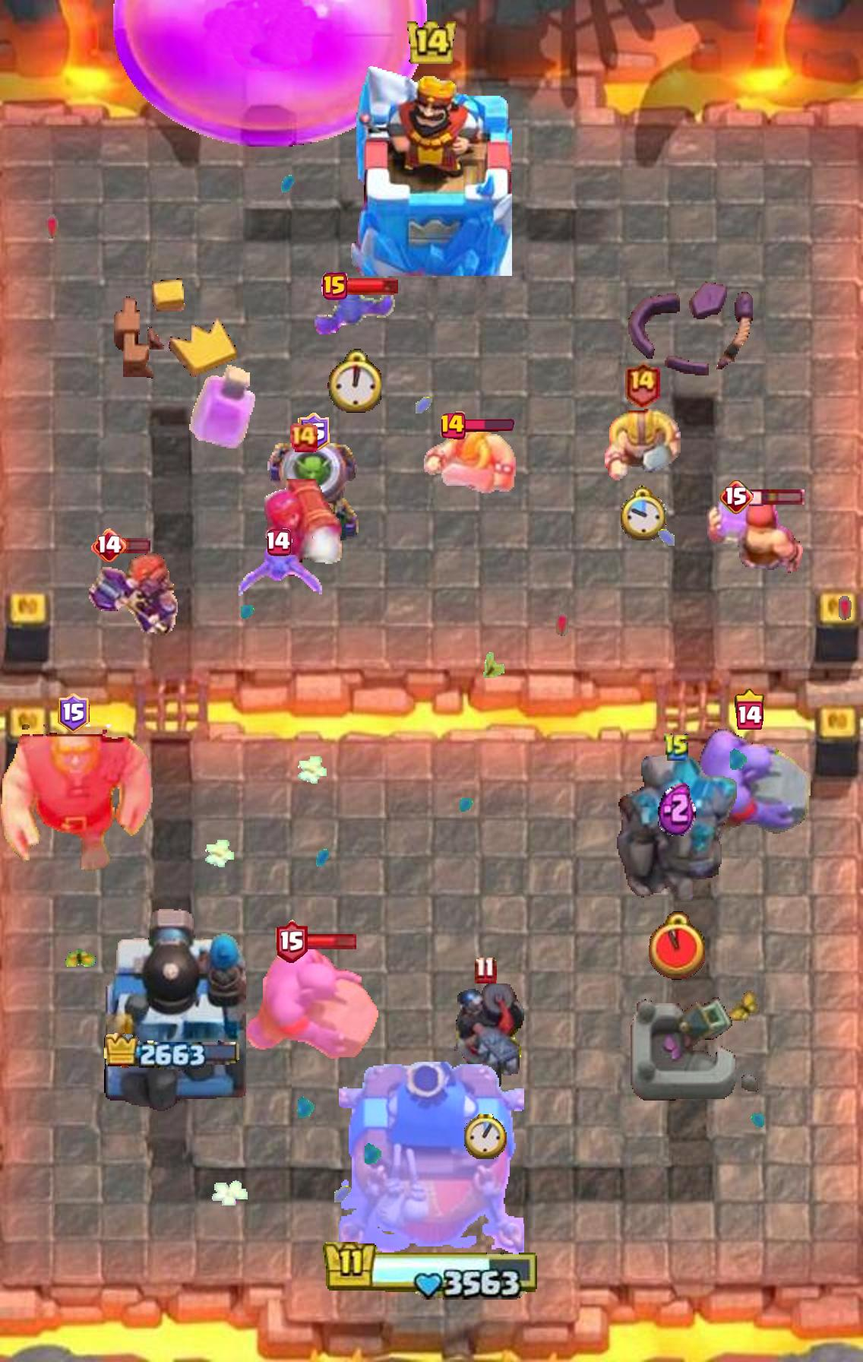elixir: (658, 778, 696, 836)
